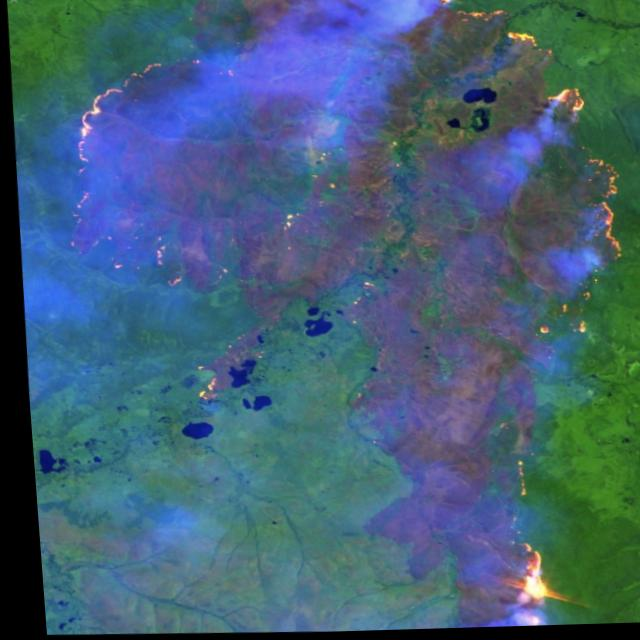fire: (32, 59, 251, 290), (505, 71, 636, 348), (403, 0, 551, 58), (496, 541, 548, 627), (184, 350, 231, 403), (490, 459, 531, 518)
